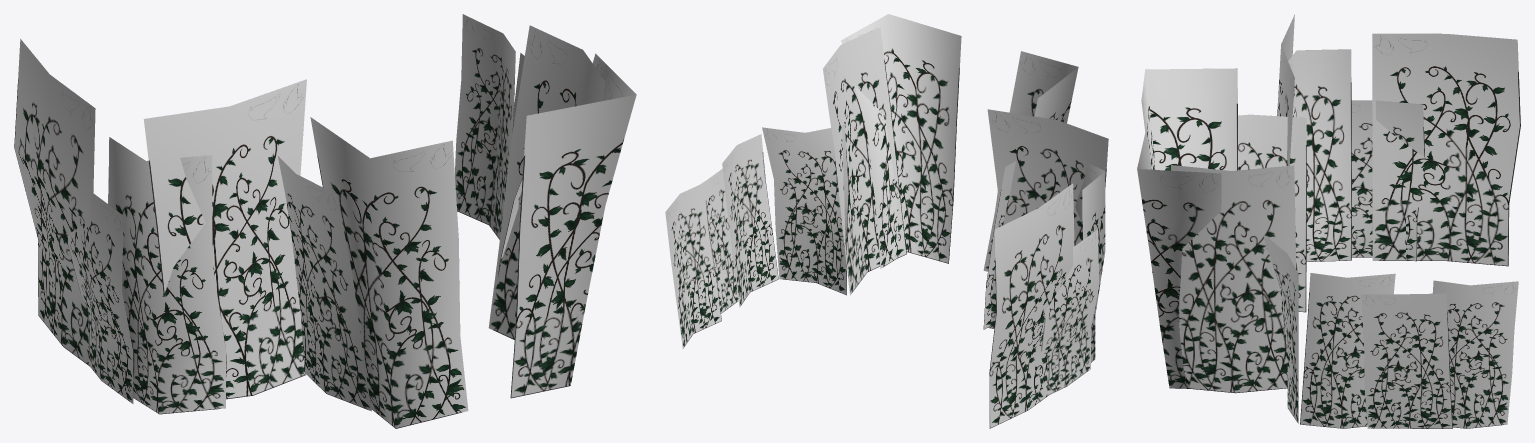
File: Isla_Fantasma_Hiedra.FBX
3 views of the same model, side by side, from view 1: azimuth 30°, elevation 25°; view 2: azimuth 150°, elevation 25°; view 3: azimuth 270°, elevation 25° (orthographic). The views are drawn at different scales.
Parts seen in each view (by area): view 1: Isla_Fantasma_hierdra_04, Isla_Fantasma_hierdra_06, Isla_Fantasma_hierdra_07, Isla_Fantasma_hierdra_03, Isla_Fantasma_hierdra_01, Isla_Fantasma_hierdra_05, Isla_Fantasma_hierdra_012, Isla_Fantasma_hierdra_08, Isla_Fantasma_hierdra_02; view 2: Isla_Fantasma_hierdra_07, Isla_Fantasma_hierdra_01, Isla_Fantasma_hierdra_09, Isla_Fantasma_hierdra_08, Isla_Fantasma_hierdra_04, Isla_Fantasma_hierdra_010, Isla_Fantasma_hierdra_012, Isla_Fantasma_hierdra_02, Isla_Fantasma_hierdra_06, Isla_Fantasma_hierdra_011, Isla_Fantasma_hierdra_03, Isla_Fantasma_hierdra_05; view 3: Isla_Fantasma_hierdra_01, Isla_Fantasma_hierdra_08, Isla_Fantasma_hierdra_011, Isla_Fantasma_hierdra_03, Isla_Fantasma_hierdra_010, Isla_Fantasma_hierdra_012, Isla_Fantasma_hierdra_06, Isla_Fantasma_hierdra_07, Isla_Fantasma_hierdra_02, Isla_Fantasma_hierdra_05, Isla_Fantasma_hierdra_09, Isla_Fantasma_hierdra_04.
Boxes of the visible parts, <box> form: Isla_Fantasma_hierdra_04: <box>143,79,306,399</box>; Isla_Fantasma_hierdra_06: <box>310,117,468,428</box>; Isla_Fantasma_hierdra_07: <box>510,53,636,398</box>; Isla_Fantasma_hierdra_03: <box>108,137,225,414</box>; Isla_Fantasma_hierdra_01: <box>14,39,95,366</box>; Isla_Fantasma_hierdra_05: <box>278,156,371,411</box>; Isla_Fantasma_hierdra_012: <box>455,14,515,239</box>; Isla_Fantasma_hierdra_08: <box>488,25,605,339</box>; Isla_Fantasma_hierdra_02: <box>67,192,133,403</box>; Isla_Fantasma_hierdra_07: <box>841,14,961,268</box>; Isla_Fantasma_hierdra_01: <box>989,183,1074,428</box>; Isla_Fantasma_hierdra_09: <box>762,125,848,295</box>; Isla_Fantasma_hierdra_08: <box>823,27,906,295</box>; Isla_Fantasma_hierdra_04: <box>987,109,1108,328</box>; Isla_Fantasma_hierdra_010: <box>722,134,778,307</box>; Isla_Fantasma_hierdra_012: <box>665,182,721,348</box>; Isla_Fantasma_hierdra_02: <box>1041,229,1099,395</box>; Isla_Fantasma_hierdra_06: <box>983,51,1078,271</box>; Isla_Fantasma_hierdra_011: <box>701,169,738,313</box>; Isla_Fantasma_hierdra_03: <box>1075,163,1105,362</box>; Isla_Fantasma_hierdra_05: <box>983,161,1015,329</box>; Isla_Fantasma_hierdra_01: <box>1372,33,1520,266</box>; Isla_Fantasma_hierdra_08: <box>1171,165,1295,393</box>; Isla_Fantasma_hierdra_011: <box>1361,293,1452,428</box>; Isla_Fantasma_hierdra_03: <box>1288,49,1351,261</box>; Isla_Fantasma_hierdra_010: <box>1300,273,1395,428</box>; Isla_Fantasma_hierdra_012: <box>1432,280,1518,428</box>; Isla_Fantasma_hierdra_06: <box>1141,68,1237,170</box>; Isla_Fantasma_hierdra_07: <box>1137,129,1221,388</box>; Isla_Fantasma_hierdra_02: <box>1351,100,1424,261</box>; Isla_Fantasma_hierdra_05: <box>1238,114,1306,312</box>; Isla_Fantasma_hierdra_09: <box>1264,235,1298,423</box>; Isla_Fantasma_hierdra_04: <box>1277,14,1294,165</box>.
Bounding box in the file's own units: 27.49 × 16.59 × 23.89.
Materials: 1 (1 with a texture image).
